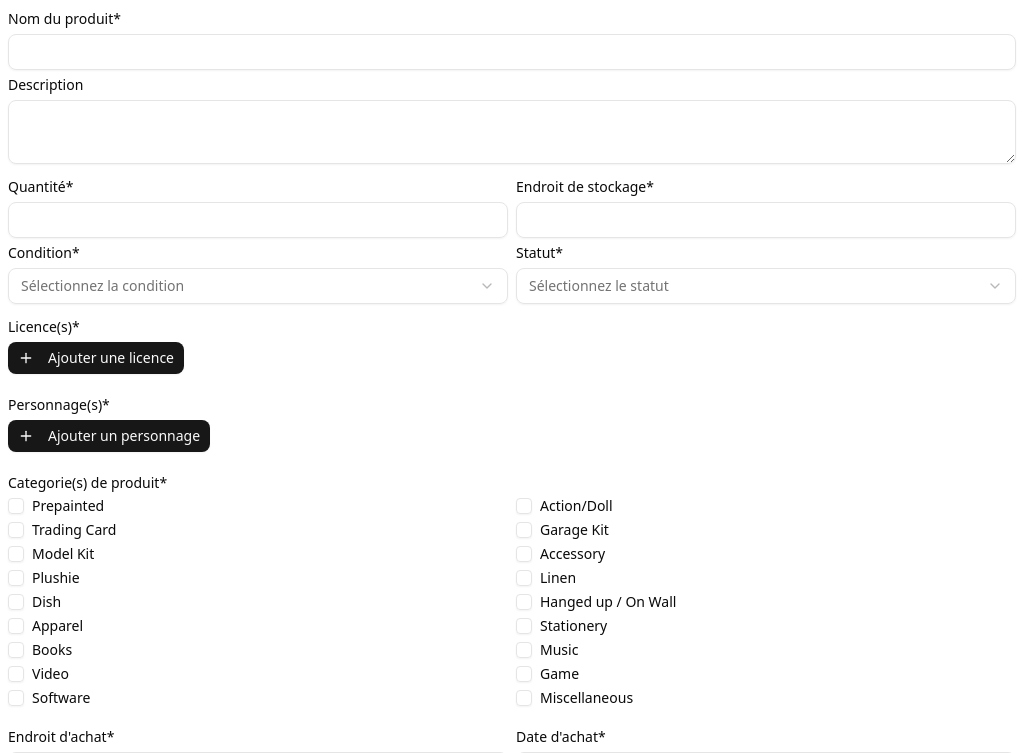
it: StockForm › adds and removes licence fields
This screenshot has width=1024, height=753.
Click the button "Ajouter une licence": (96, 358) top-left (8, 342), bottom-right (184, 374)
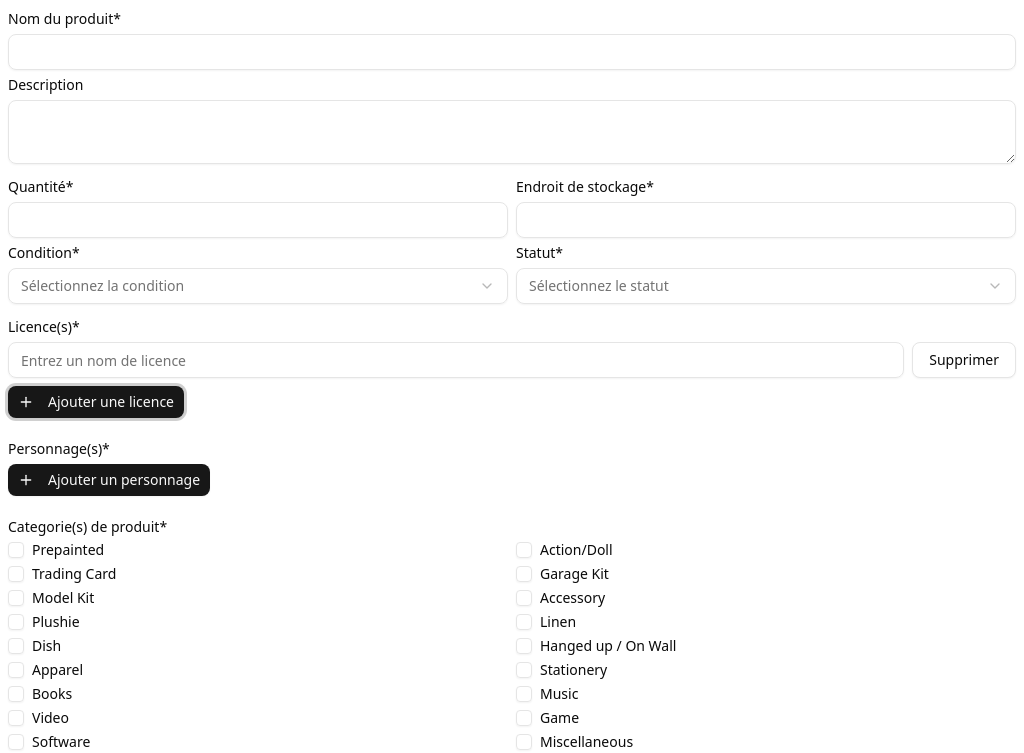
Now the number of fields with placeholder "Entrez un nom de licence" is 1, box top-left (8, 342), bottom-right (904, 378)
Ajouter une deuxième licence
Click the button "Ajouter une licence": (96, 402) top-left (8, 386), bottom-right (184, 418)
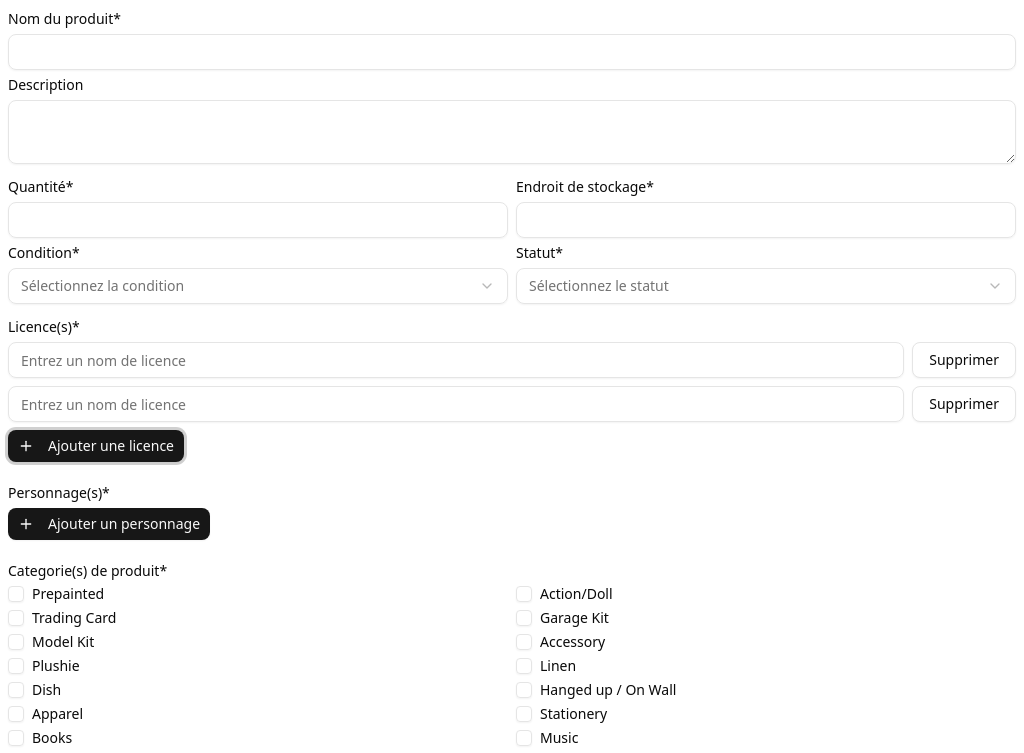
Now the number of fields with placeholder "Entrez un nom de licence" is 2, box top-left (8, 342), bottom-right (904, 378); top-left (8, 386), bottom-right (904, 422)
Supprimer une licence
Click the 1st button "Supprimer": (964, 360) top-left (912, 342), bottom-right (1016, 378)
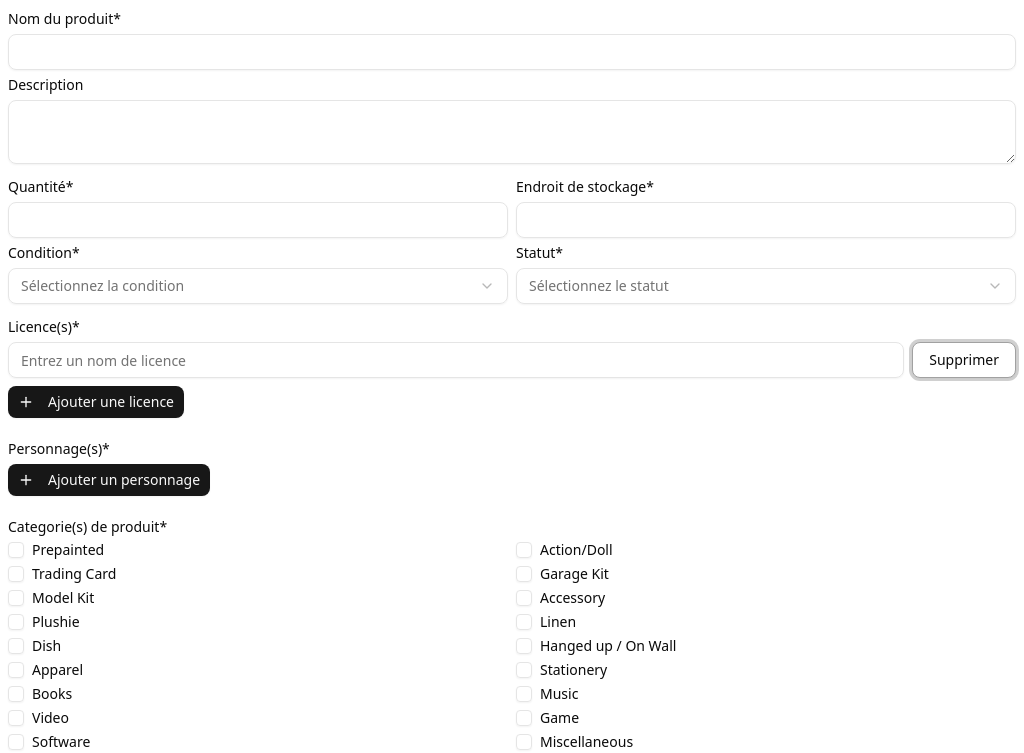
Now the number of fields with placeholder "Entrez un nom de licence" is 1, box top-left (8, 342), bottom-right (904, 378)
